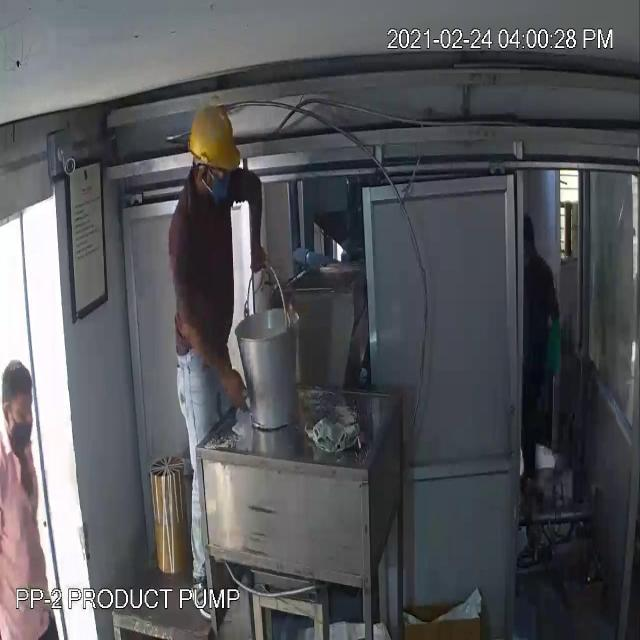helmet: (187, 98, 239, 175)
